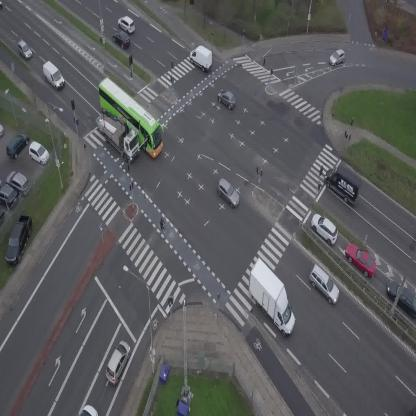bicycle: (157, 217, 168, 235)
bus: (85, 75, 174, 160)
car: (303, 263, 345, 306), (340, 238, 382, 281), (101, 339, 135, 386), (306, 210, 343, 247), (212, 177, 244, 209), (109, 27, 134, 53), (214, 87, 240, 111), (115, 13, 139, 36), (13, 39, 34, 62), (326, 47, 348, 67), (78, 405, 98, 416)
lorry: (234, 256, 311, 339), (87, 102, 148, 164), (318, 162, 369, 208), (186, 41, 218, 73), (38, 60, 69, 90)
